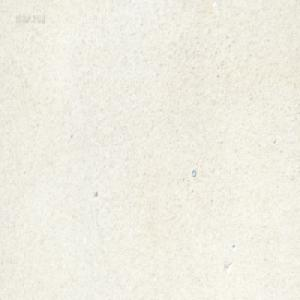Washer: (191, 168, 196, 177)
